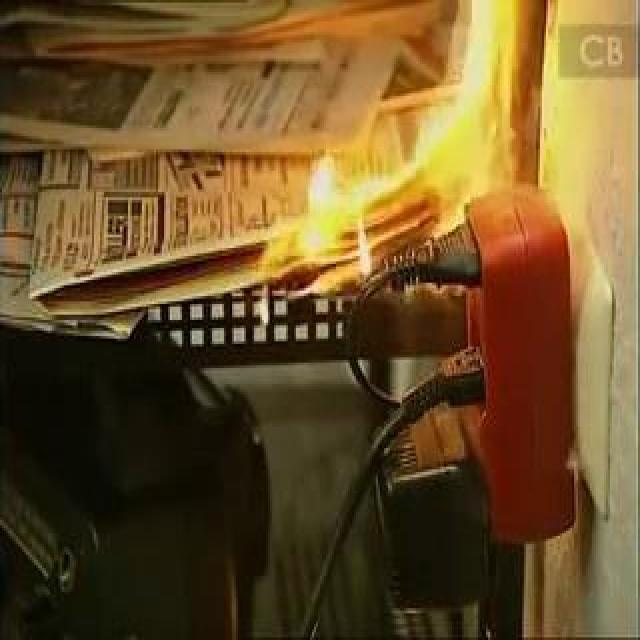Fire: (231, 3, 531, 317)
